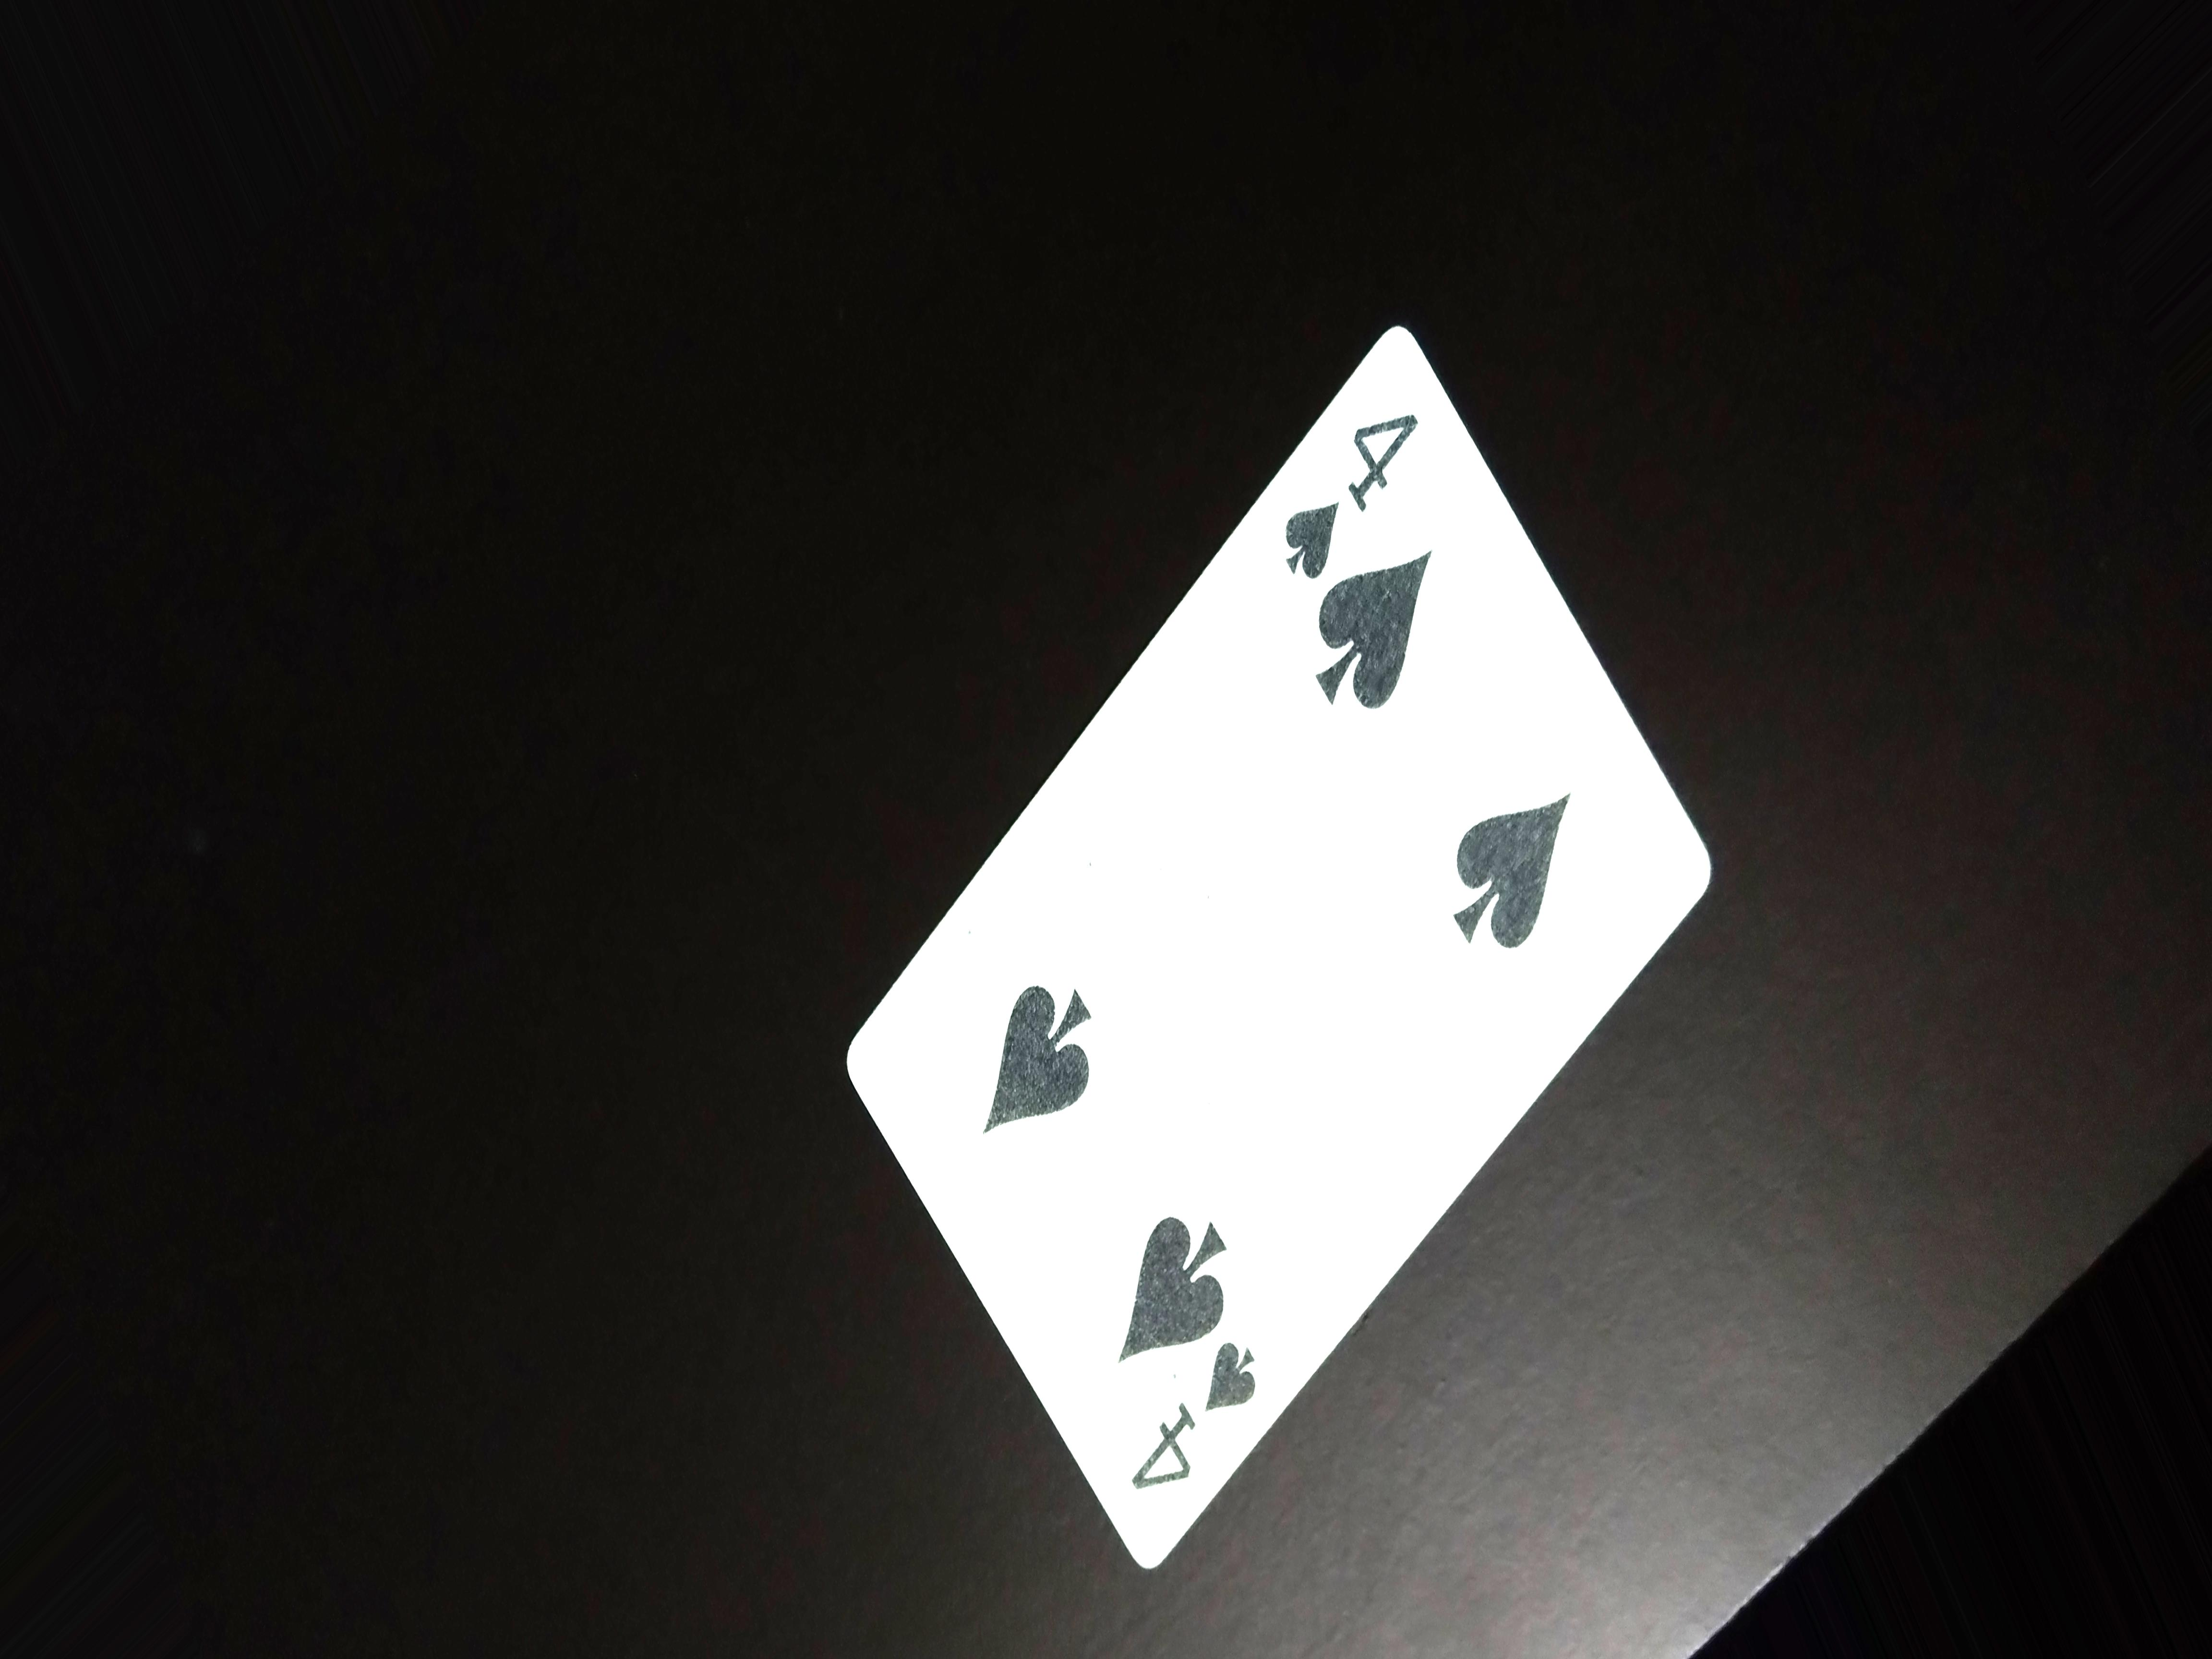4S: (1270, 397, 1420, 584)
